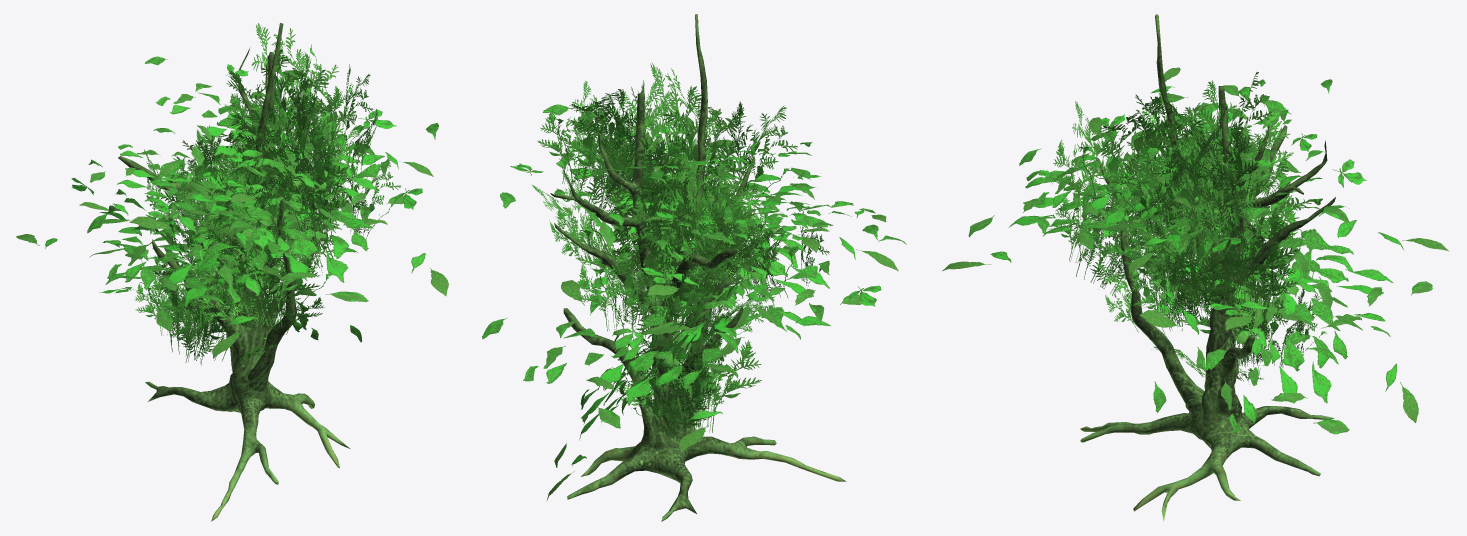
File: grow-plant.glb
3 views of the same model, side by side, from view 1: azimuth 30°, elevation 25°; view 2: azimuth 150°, elevation 25°; view 3: azimuth 270°, elevation 25° (orthographic). The views are drawn at different scales.
Visible parts, largest first — view 1: plant1_1_plant1_0, dryleaves_1_leaves_0, tree1_tree1_0; view 2: plant1_1_plant1_0, dryleaves_1_leaves_0, tree1_tree1_0; view 3: plant1_1_plant1_0, dryleaves_1_leaves_0, tree1_tree1_0.
Part boxes in pixels (x1,y1,x2,y2): plant1_1_plant1_0: [134, 23, 400, 369]; dryleaves_1_leaves_0: [16, 56, 448, 358]; tree1_tree1_0: [118, 23, 350, 521]; plant1_1_plant1_0: [531, 63, 829, 442]; dryleaves_1_leaves_0: [482, 104, 906, 501]; tree1_tree1_0: [550, 14, 846, 521]; plant1_1_plant1_0: [1053, 72, 1333, 381]; dryleaves_1_leaves_0: [942, 67, 1448, 434]; tree1_tree1_0: [1080, 14, 1335, 521].
Size of the model in its own units: 0.2828 by 0.35 by 0.3457.
Materials: 3 (3 with a texture image).
